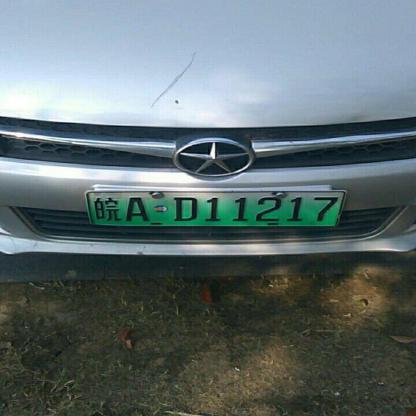lp: (88, 192, 344, 223)
